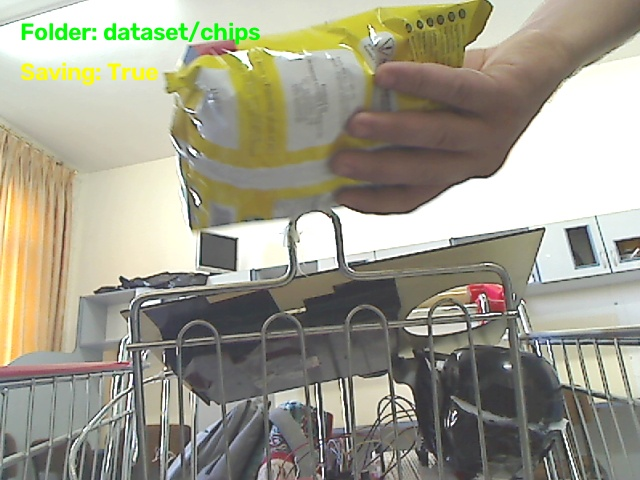chips: (166, 0, 491, 229)
